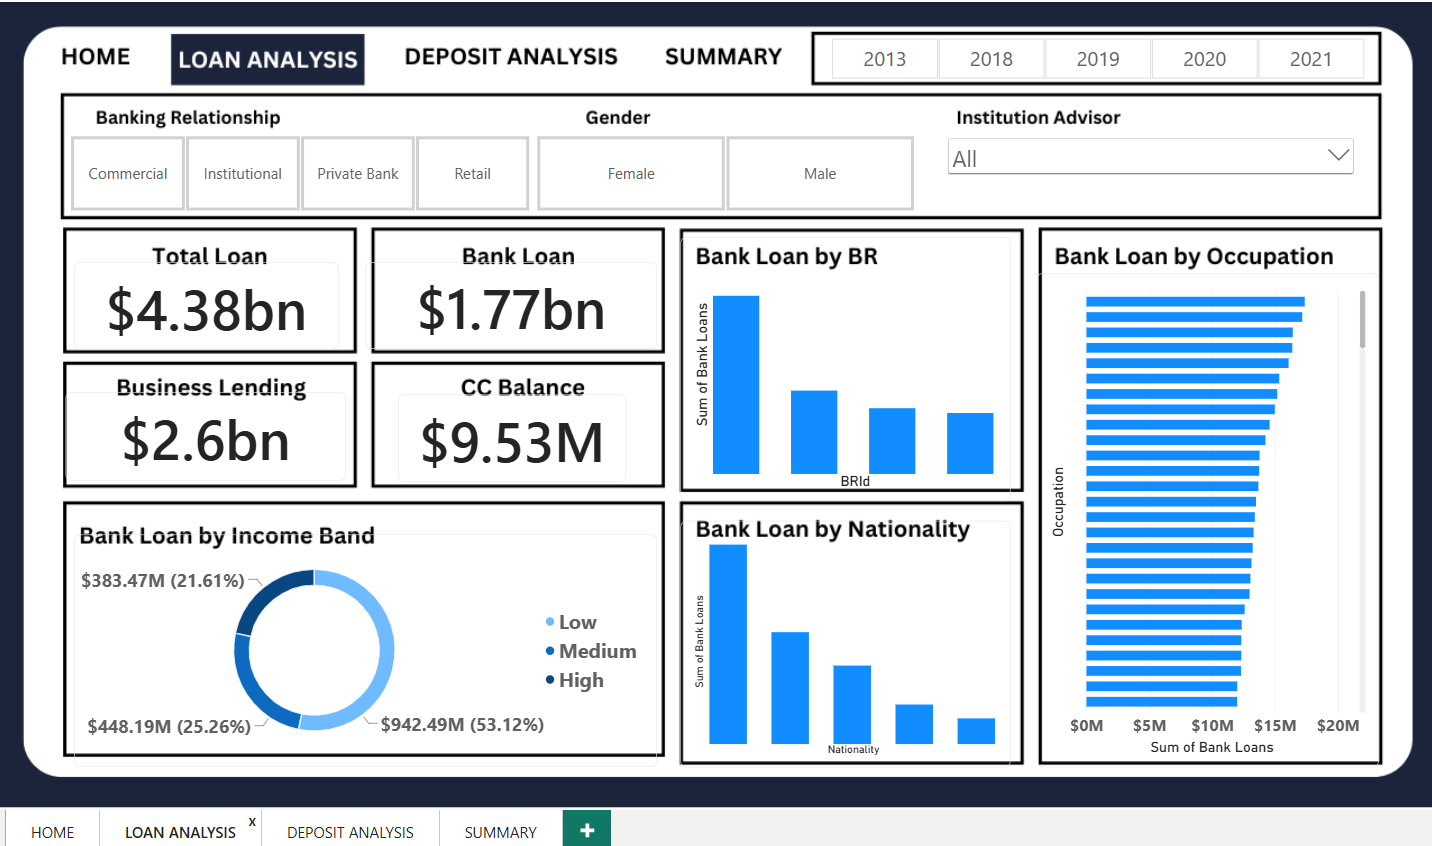

This screenshot's page, from the dashboard's own definition file:
{"tool":"powerbi","page":{"name":"LOAN ANALYSIS","canvas":[1920,1080],"ordinal":1},"visuals":[{"type":"slicer","fields":{"Values":["banking_case customer.Year of Joining"]},"box":[1093.3,46,750,57.5],"z":0},{"type":"actionButton","box":[55.6,44.1,153.4,63.3],"z":1000},{"type":"actionButton","box":[523.6,40.3,328,63.3],"z":2000},{"type":"actionButton","box":[865.1,40.3,212.9,63.3],"z":3000},{"type":"actionButton","box":[865.1,48,212.9,63.3],"z":4000},{"type":"card","fields":{"Values":["banking_case customer.Total Loan"]},"box":[101.7,347.2,352.9,117],"z":5000},{"type":"card","fields":{"Values":["Sum(banking_case customer.Bank Loans)"]},"box":[490.4,348.1,389.7,116],"z":6000},{"type":"card","fields":{"Values":["Sum(banking_case customer.Business Lending)"]},"box":[89.8,521,374.4,118.2],"z":7000},{"type":"card","fields":{"Values":["Sum(banking_case customer.Credit Card Balance)"]},"box":[535.1,523.6,305,117],"z":8000},{"type":"donutChart","fields":{"Category":["banking_case customer.Income Band"],"Y":["Sum(banking_case customer.Bank Loans)"]},"box":[101.7,711.6,778.7,310.7],"z":9000},{"type":"columnChart","fields":{"Category":["banking_case customer.BRId"],"Y":["Sum(banking_case customer.Bank Loans)"]},"box":[911.1,314.6,441.2,352.9],"z":10000},{"type":"columnChart","fields":{"Category":["banking_case customer.Nationality"],"Y":["Sum(banking_case customer.Bank Loans)"]},"box":[911.1,692.4,441.2,329.9],"z":11000},{"type":"barChart","fields":{"Category":["banking_case customer.Occupation"],"Y":["Sum(banking_case customer.Bank Loans)"]},"box":[1386.8,362.5,456.5,659.8],"z":12000},{"type":"slicer","fields":{"Values":["banking_case customer.BRId"]},"box":[76.7,176.5,652.1,103.6],"z":13000},{"type":"slicer","fields":{"Values":["banking_case customer.GenderId"]},"box":[700.1,176.5,542.8,103.6],"z":14000},{"type":"slicer","fields":{"Values":["banking_case customer.IAId"]},"box":[1264,176.5,552.4,103.6],"z":15000}]}

Visuals, with their boxes on the page's 1920x1080 design canvas (x1, y1, x2, y2). These are canvas units, not pixel positions in the 1432x846 screenshot, which may show the page scaled, cropped or inside an application window:
slicer - banking_case customer.Year of Joining: Rect(1093, 46, 1843, 104)
actionButton: Rect(56, 44, 209, 107)
actionButton: Rect(524, 40, 852, 104)
actionButton: Rect(865, 40, 1078, 104)
actionButton: Rect(865, 48, 1078, 111)
card - banking_case customer.Total Loan: Rect(102, 347, 455, 464)
card - Sum(banking_case customer.Bank Loans): Rect(490, 348, 880, 464)
card - Sum(banking_case customer.Business Lending): Rect(90, 521, 464, 639)
card - Sum(banking_case customer.Credit Card Balance): Rect(535, 524, 840, 641)
donutChart - banking_case customer.Income Band x Sum(banking_case customer.Bank Loans): Rect(102, 712, 880, 1022)
columnChart - banking_case customer.BRId x Sum(banking_case customer.Bank Loans): Rect(911, 315, 1352, 668)
columnChart - banking_case customer.Nationality x Sum(banking_case customer.Bank Loans): Rect(911, 692, 1352, 1022)
barChart - banking_case customer.Occupation x Sum(banking_case customer.Bank Loans): Rect(1387, 362, 1843, 1022)
slicer - banking_case customer.BRId: Rect(77, 176, 729, 280)
slicer - banking_case customer.GenderId: Rect(700, 176, 1243, 280)
slicer - banking_case customer.IAId: Rect(1264, 176, 1816, 280)
